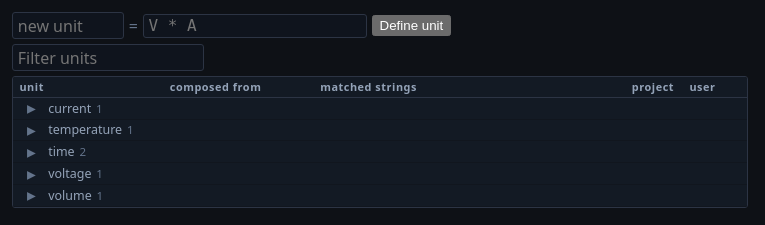
Test: filtering › keeps the host's dimension-grouped order, filtered or not
The width and height of the screenshot is (765, 225).
Expected: the list item "voltage" is shown, [48, 165, 92, 182]
Type "time" into the search field labelled "Filter units" at (108, 58), box [12, 44, 204, 71]
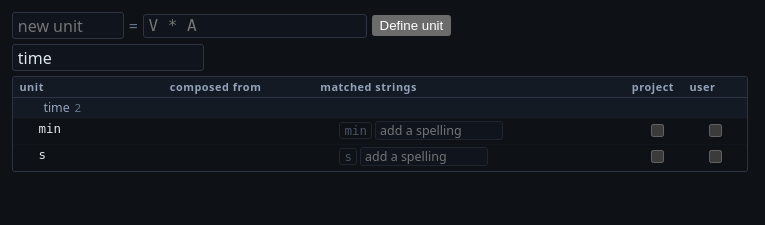
Replace the text in the search field named "Filter units" with "furlong" at (108, 58), box [12, 44, 204, 71]
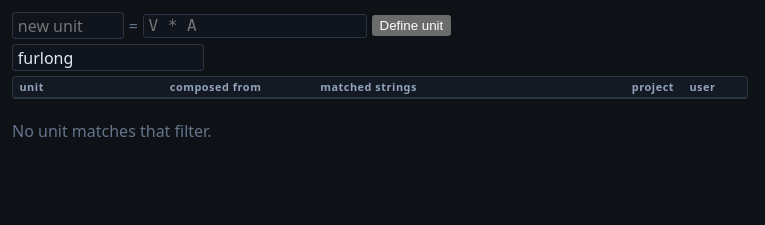
Expected: the text "No unit matches that filter." is shown, [12, 120, 212, 142]
